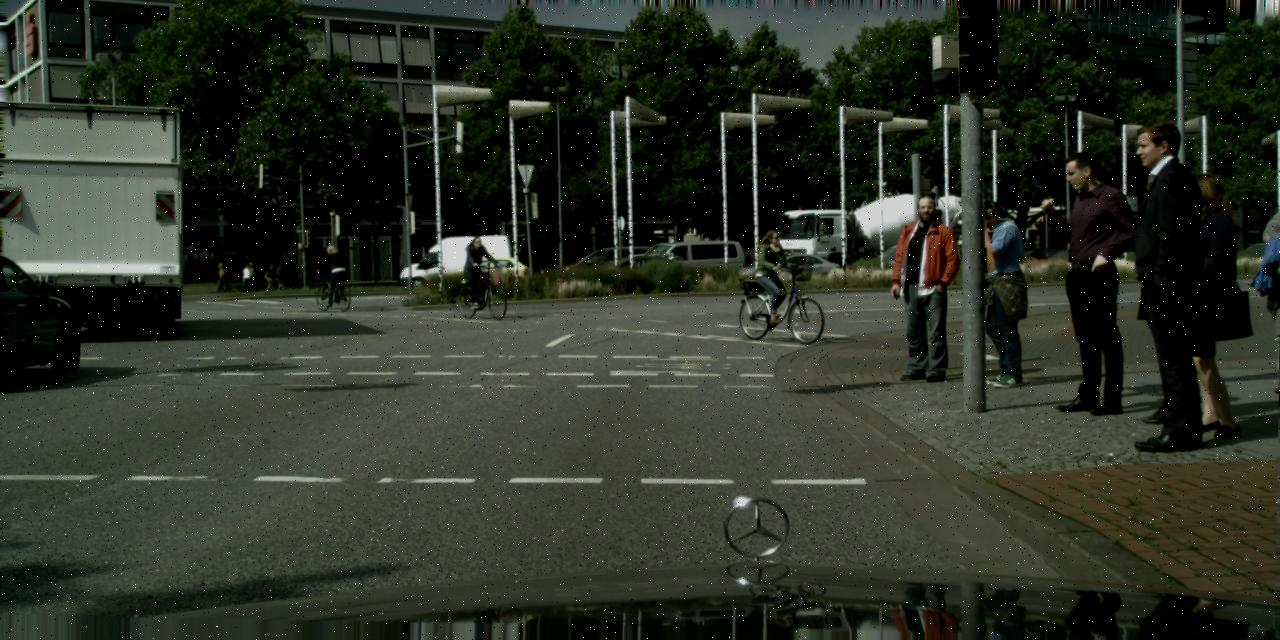ped: (1100, 120, 1228, 434), (1158, 172, 1264, 432), (1035, 152, 1141, 410), (887, 195, 962, 380), (960, 201, 1034, 385), (754, 229, 790, 320), (463, 236, 491, 304), (321, 243, 344, 301), (213, 262, 230, 292), (245, 261, 257, 292), (274, 261, 286, 291), (242, 264, 252, 292), (266, 264, 276, 291), (744, 255, 752, 275)
